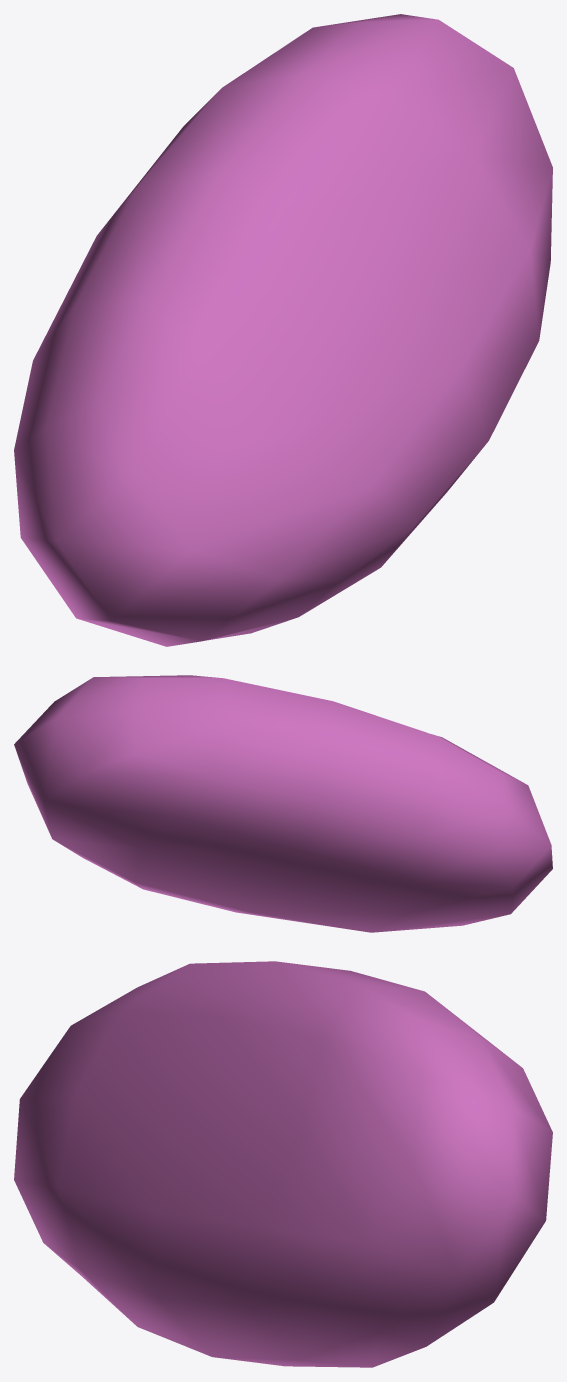
3 views of the same model, one above another, from view 1: azimuth 30°, elevation 25°; view 2: azimuth 150°, elevation 25°; view 3: azimuth 270°, elevation 25° (orthographic). The views are drawn at different scales.
Parts seen in each view (by area): view 1: 右侧上甲状旁腺; view 2: 右侧上甲状旁腺; view 3: 右侧上甲状旁腺.
Part boxes in pixels (x1=…): 右侧上甲状旁腺: x1=14, y1=14, x2=552, y2=646; 右侧上甲状旁腺: x1=14, y1=675, x2=552, y2=932; 右侧上甲状旁腺: x1=14, y1=961, x2=552, y2=1367.
Bounding box in the file's own units: 0.00572 × 0.00371 × 0.00454.
